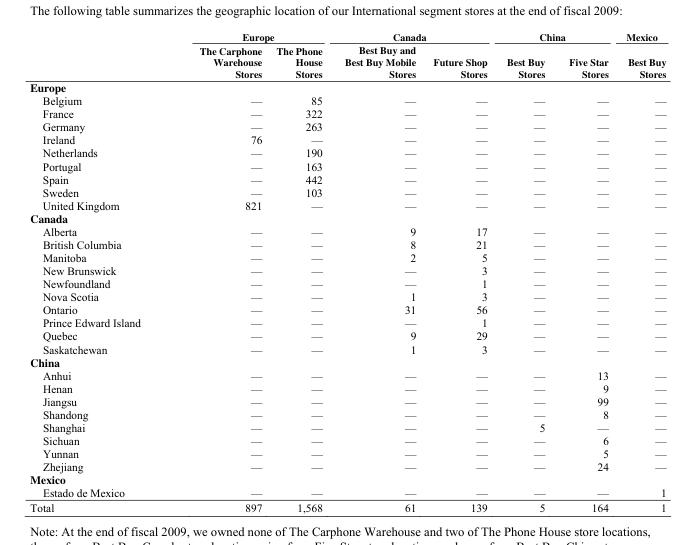table: (29, 29, 665, 513)
table column: (29, 29, 169, 513), (169, 29, 268, 513), (332, 29, 423, 513), (423, 29, 496, 513), (268, 29, 332, 513), (496, 29, 556, 513), (556, 29, 616, 513), (616, 29, 665, 513)
table column header: (29, 29, 665, 79)
table projected row header: (29, 79, 665, 94), (29, 210, 665, 225), (29, 354, 665, 369), (29, 472, 665, 486)
table row: (29, 43, 665, 79), (29, 79, 665, 94), (29, 210, 665, 225), (29, 354, 665, 369), (29, 29, 665, 43), (29, 119, 665, 133), (29, 315, 665, 329), (29, 472, 665, 486), (29, 499, 665, 513), (29, 106, 665, 119), (29, 133, 665, 146), (29, 146, 665, 159), (29, 159, 665, 172), (29, 172, 665, 185), (29, 185, 665, 198), (29, 237, 665, 250), (29, 250, 665, 263), (29, 263, 665, 276), (29, 276, 665, 289), (29, 289, 665, 302), (29, 302, 665, 315), (29, 329, 665, 342), (29, 381, 665, 394), (29, 394, 665, 407), (29, 407, 665, 420), (29, 420, 665, 433), (29, 433, 665, 446), (29, 446, 665, 459), (29, 459, 665, 472), (29, 486, 665, 499), (29, 94, 665, 106), (29, 198, 665, 210), (29, 225, 665, 237), (29, 342, 665, 354), (29, 369, 665, 381)
table spanning cell: (616, 29, 665, 79), (332, 29, 496, 43), (169, 29, 332, 43), (496, 29, 616, 43)
